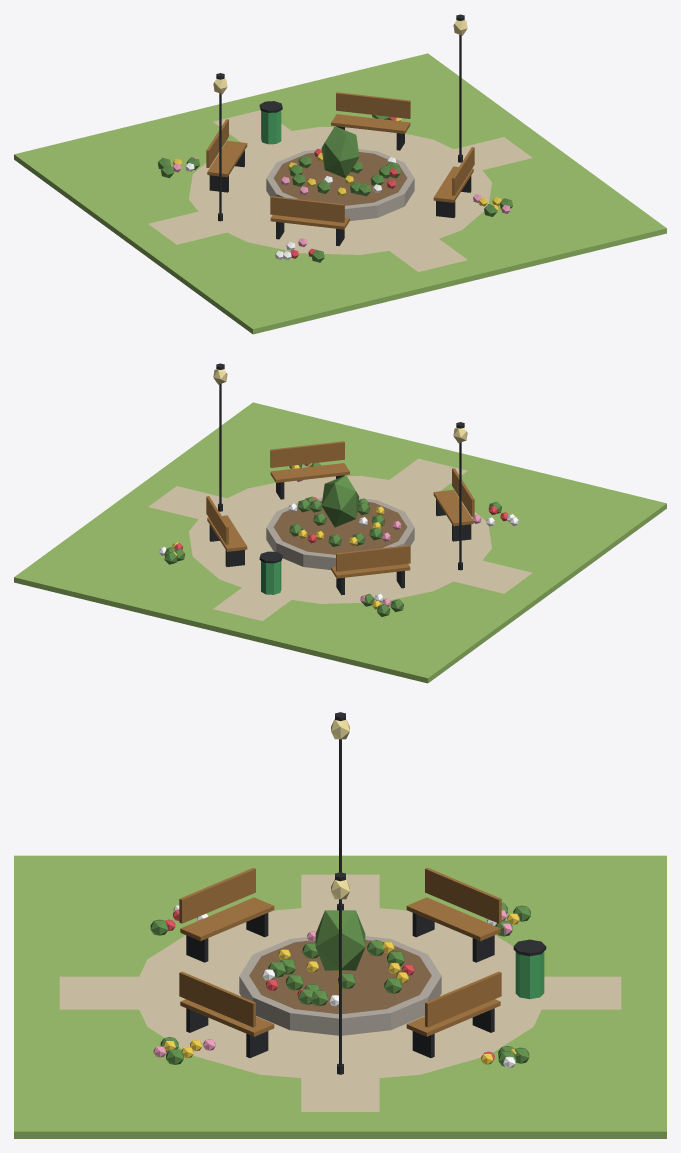
The model's file is Park_cim_cicek_Hafif.fbx.
The picture shows the model from 3 angles, top to bottom: view 1: azimuth 30°, elevation 25°; view 2: azimuth 150°, elevation 25°; view 3: azimuth 270°, elevation 25°; orthographic projection. The views are drawn at different scales.
Visible parts, largest first — view 1: Park_cim_cicek_Hafif; view 2: Park_cim_cicek_Hafif; view 3: Park_cim_cicek_Hafif.
Boxes of the visible parts, x1,y1,x2,y2 form: Park_cim_cicek_Hafif: (14,14,666,334); Park_cim_cicek_Hafif: (14,363,666,683); Park_cim_cicek_Hafif: (14,712,666,1138).
Bounding box in the file's own units: 10 × 3.48 × 10.
